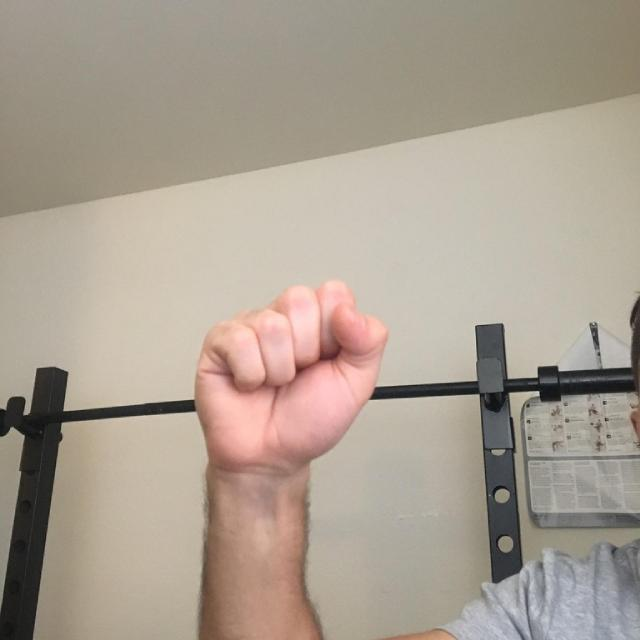S: (170, 250, 388, 510)
